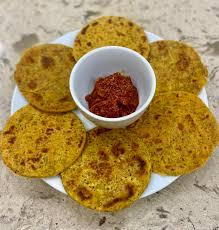bhakri: (71, 129, 159, 212), (0, 96, 78, 185), (131, 97, 218, 166), (146, 38, 214, 95), (15, 44, 68, 111), (75, 16, 150, 54)
